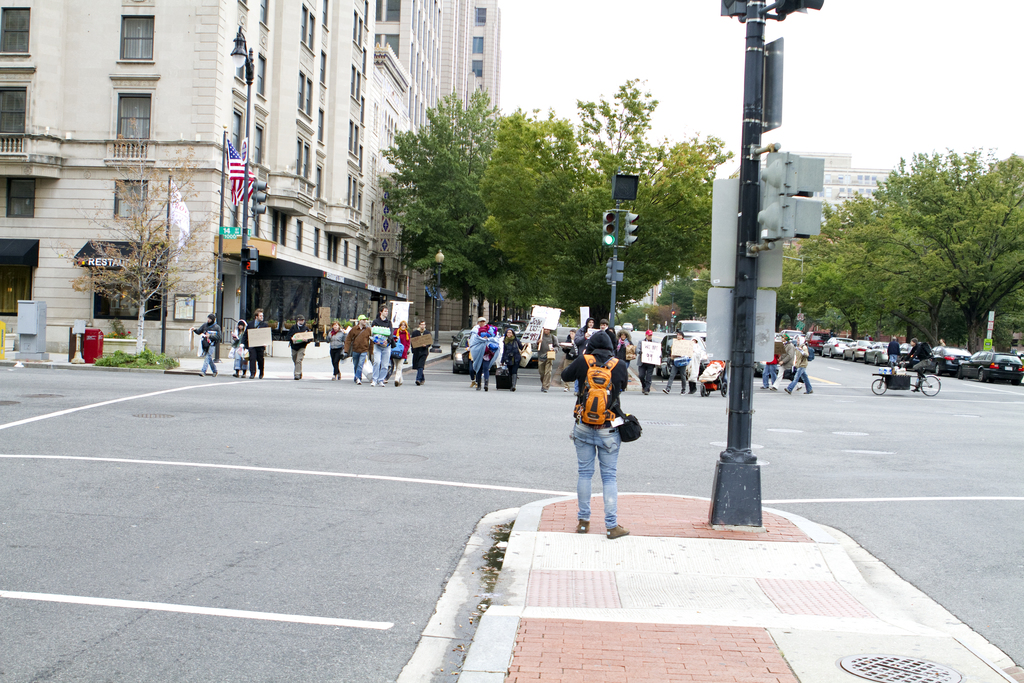Person: (189, 304, 946, 538)
